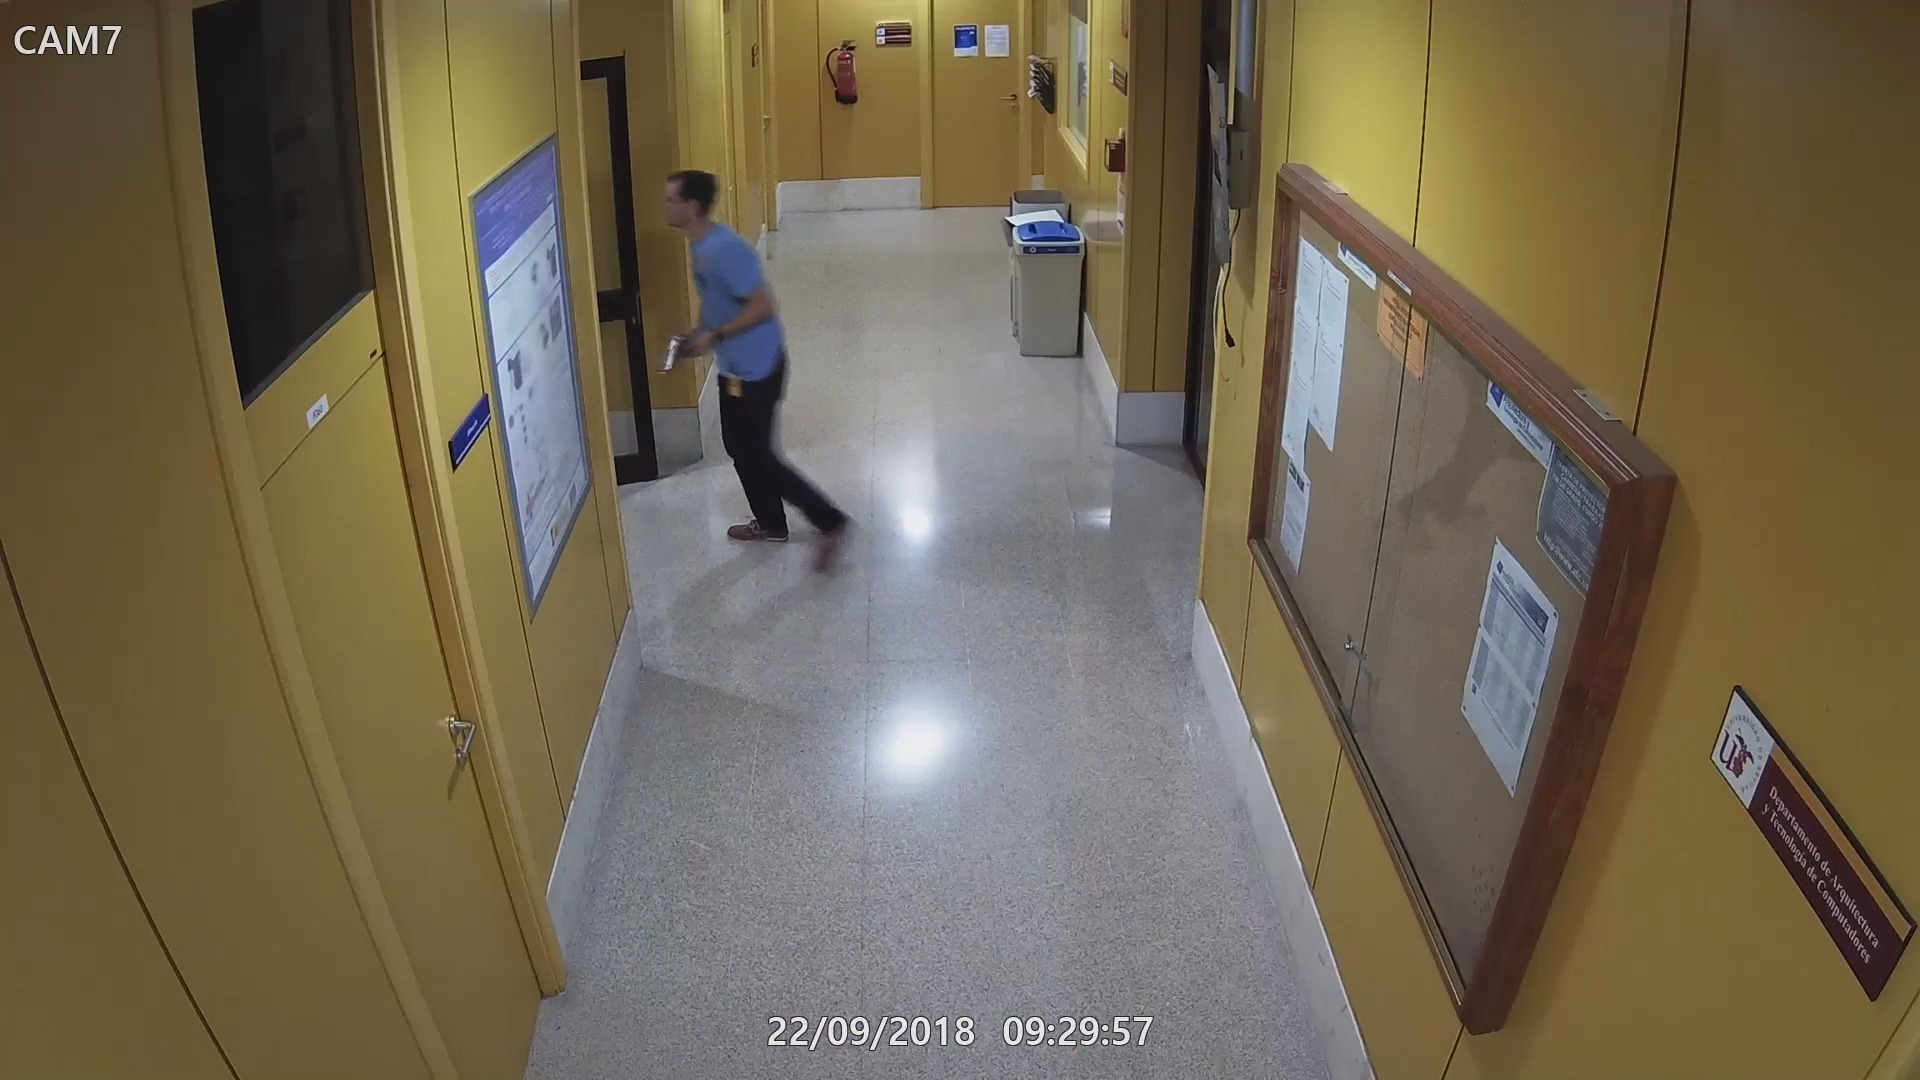Handgun: (661, 330, 699, 375)
